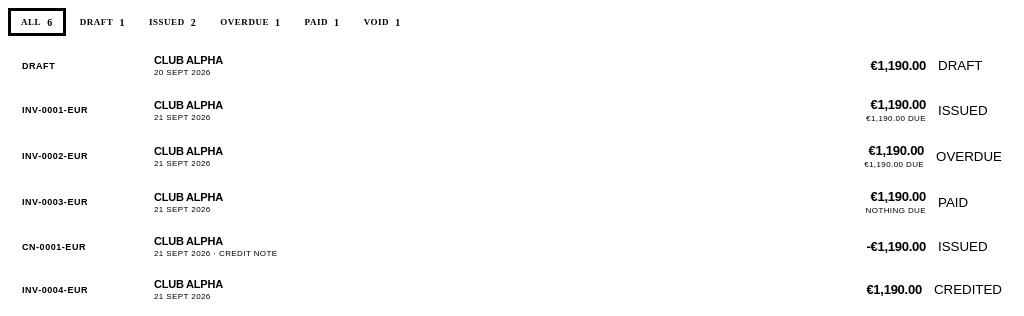
it: InvoiceList › status chips form a radiogroup and filter overdue/void
Click the radio button labelled "OVERDUE 1" at {"x": 250, "y": 22}, box [210, 8, 291, 36]
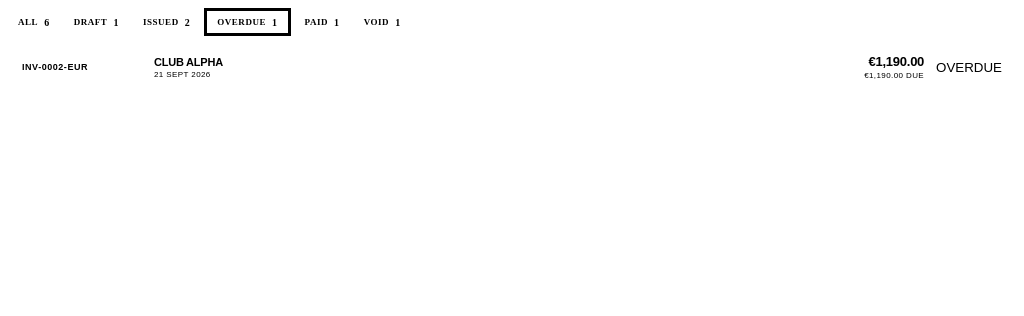
Click the radio button labelled "VOID 1" at {"x": 382, "y": 22}, box [354, 8, 411, 36]
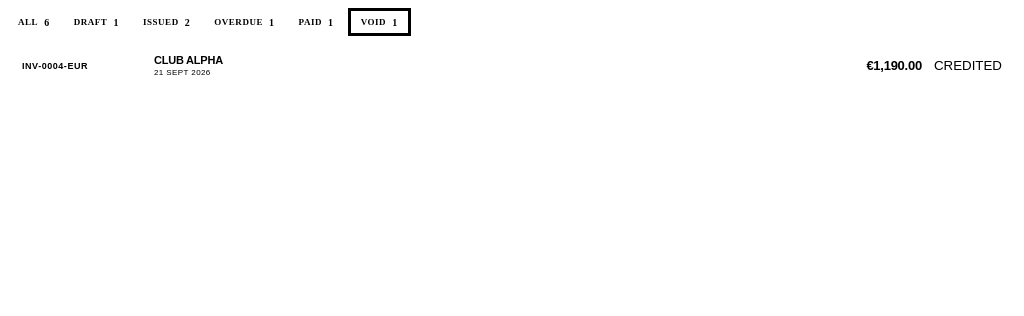
expect the number of buttons with class "il-row" is 1: met, box [8, 44, 1016, 87]
expect the text "CREDITED" is shown: met, box [934, 58, 1002, 73]
